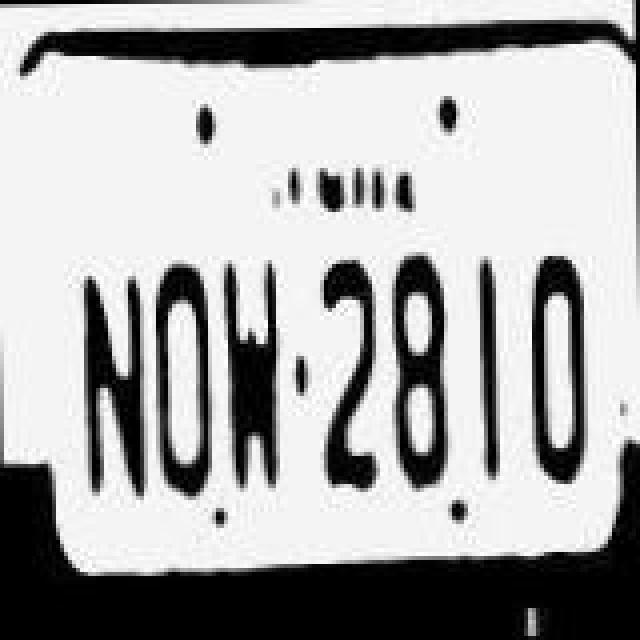1: (456, 236, 504, 488)
2: (308, 244, 384, 516)
8: (378, 238, 454, 494)
N: (62, 260, 150, 524)
O: (518, 242, 594, 502), (146, 242, 222, 498)
W: (212, 238, 292, 502)
